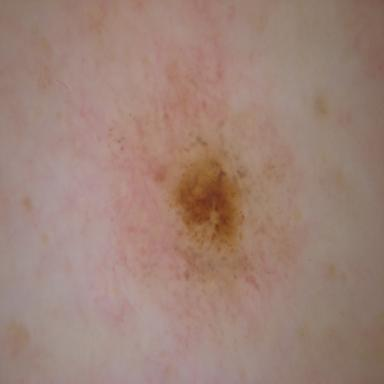nevus: (155, 137, 246, 274)
